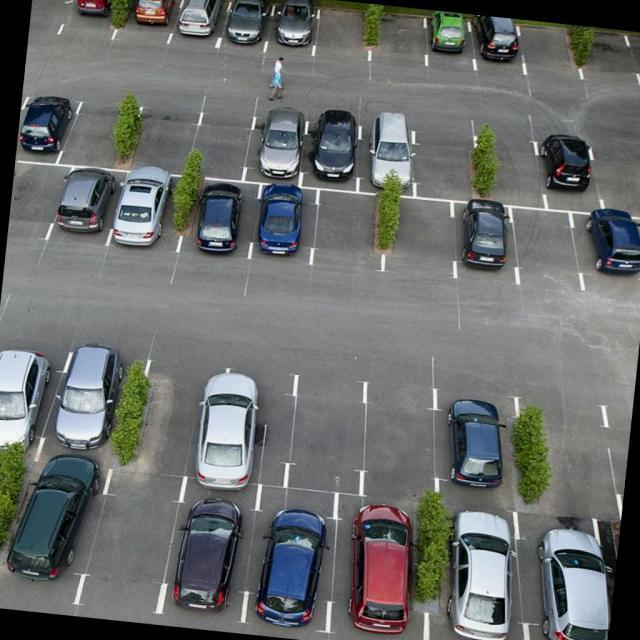space-empty: (80, 467, 175, 607), (525, 398, 612, 521), (289, 380, 367, 495), (363, 385, 433, 498), (304, 190, 386, 275), (386, 196, 456, 287), (470, 129, 545, 207), (408, 126, 478, 204), (124, 103, 197, 176), (506, 211, 573, 288), (67, 94, 131, 165), (190, 109, 250, 183), (567, 26, 635, 89), (516, 22, 579, 88), (7, 164, 57, 239), (370, 9, 430, 67), (313, 6, 369, 66), (600, 143, 640, 223), (28, 0, 75, 38), (631, 32, 640, 94)
space-occupied: (321, 491, 431, 634), (241, 485, 341, 625), (427, 510, 523, 640), (0, 467, 94, 595), (172, 480, 257, 616), (514, 515, 605, 640), (143, 359, 229, 479), (428, 395, 515, 503), (51, 348, 131, 460), (216, 372, 294, 480), (115, 169, 190, 259), (0, 341, 56, 461), (185, 178, 258, 264), (249, 186, 317, 270), (573, 214, 640, 299), (540, 132, 612, 210), (352, 112, 413, 200), (298, 113, 364, 189), (53, 161, 113, 244), (244, 108, 304, 184), (455, 200, 508, 284), (16, 91, 72, 164), (466, 15, 529, 73), (262, 0, 320, 62), (424, 15, 474, 74), (173, 0, 226, 52), (221, 1, 271, 56), (118, 0, 178, 43), (67, 0, 123, 40)
